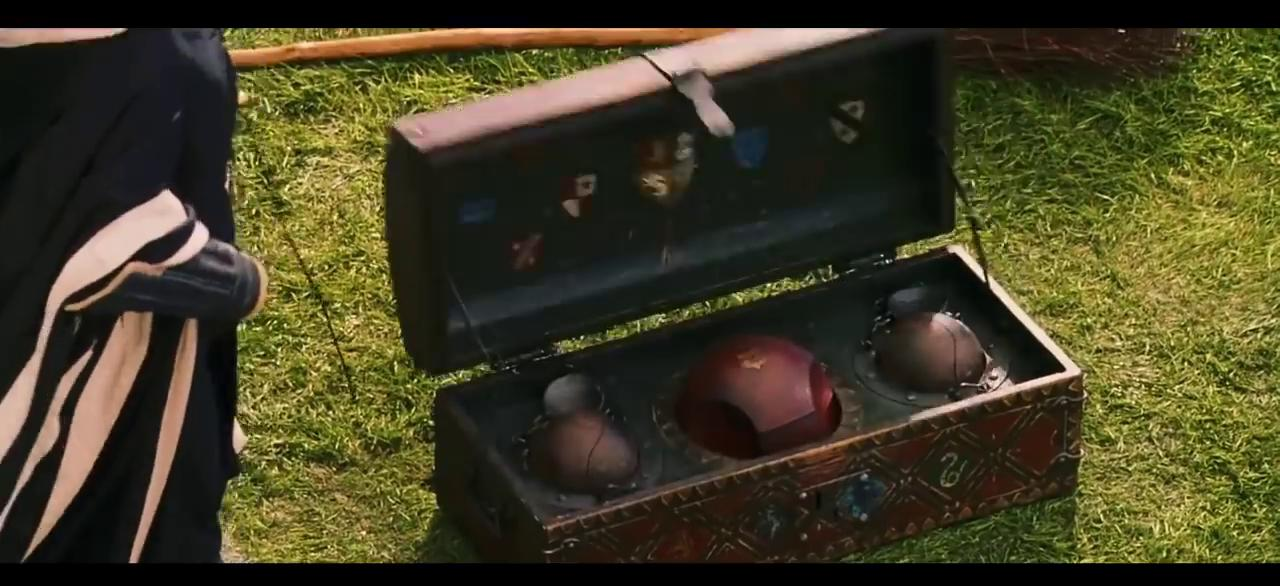bludger: (882, 309, 985, 398), (534, 413, 638, 497)
quaffle: (685, 333, 837, 459)
